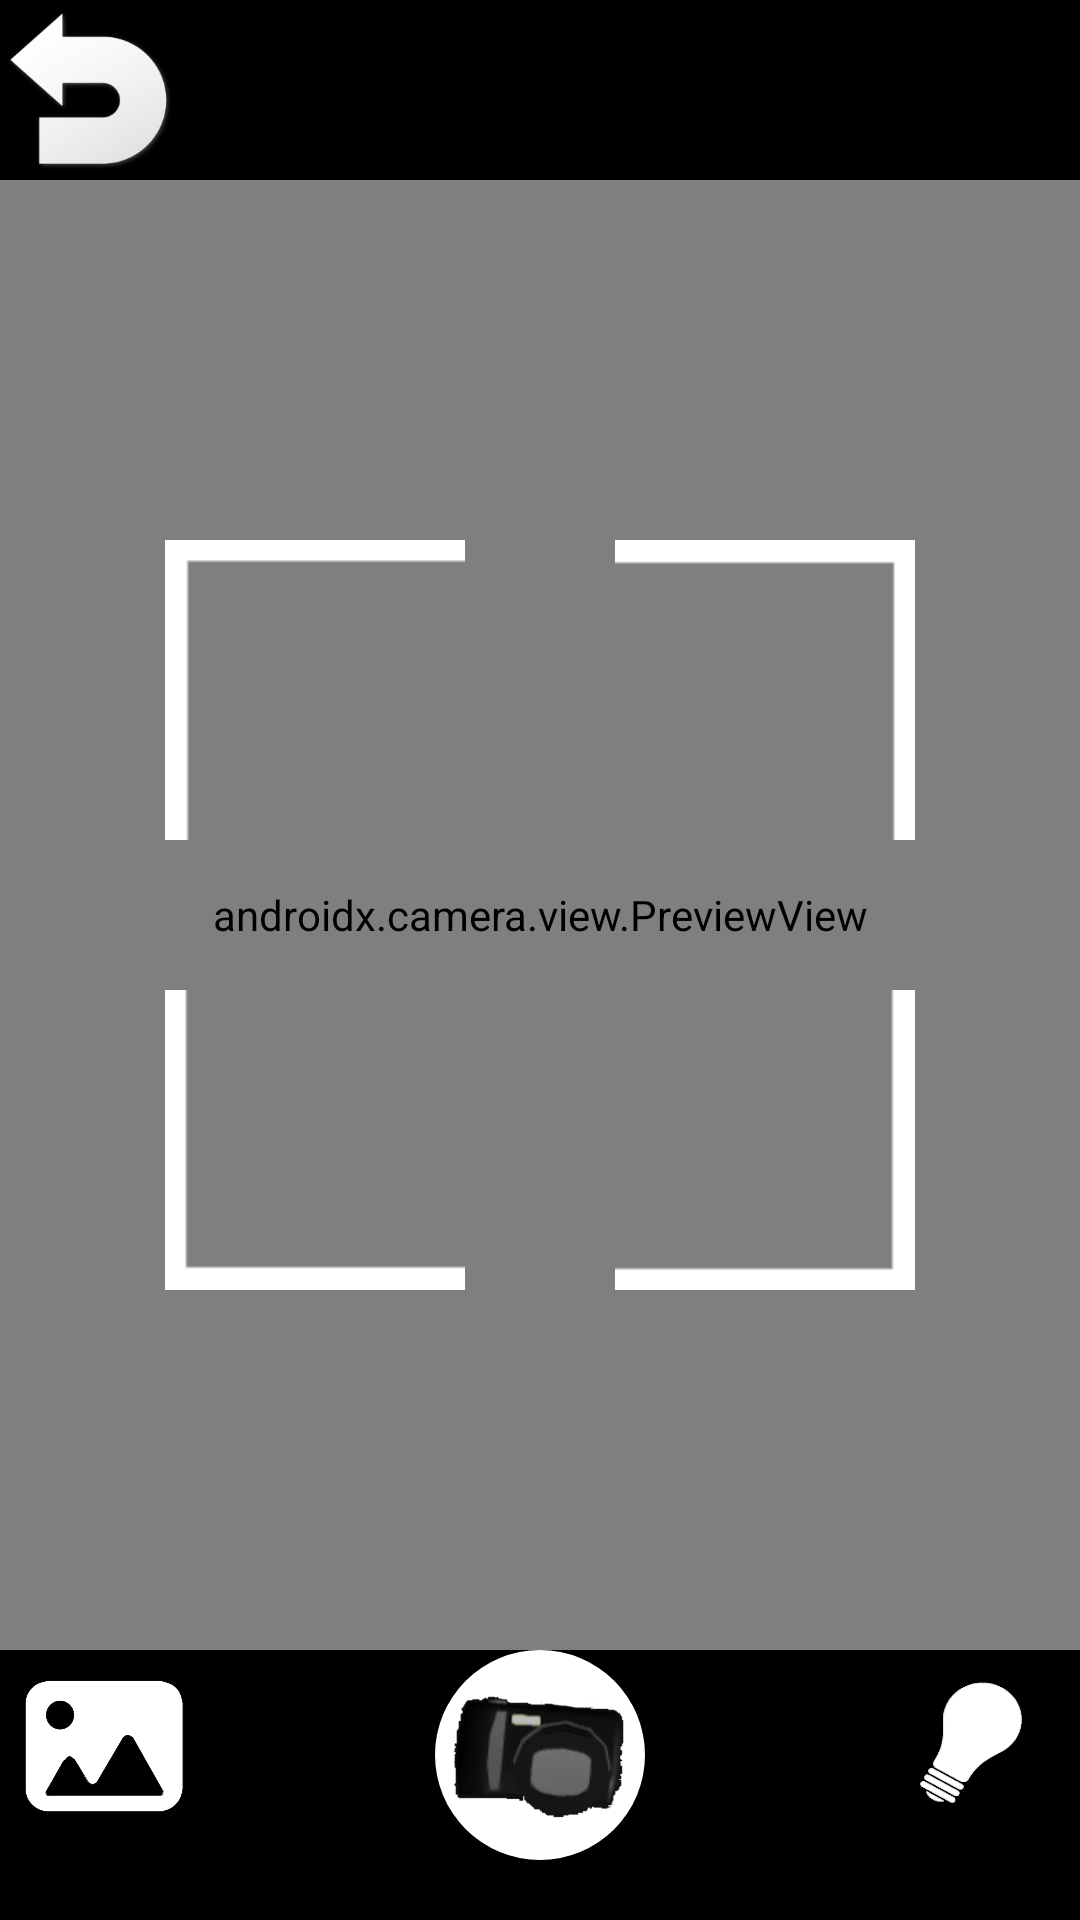

Named icons in this screenshot (1080x1920) and their centers, (x=x, y=y):
flash: (x=971, y=1742)
gallery: (x=104, y=1746)
return: (x=89, y=89)
